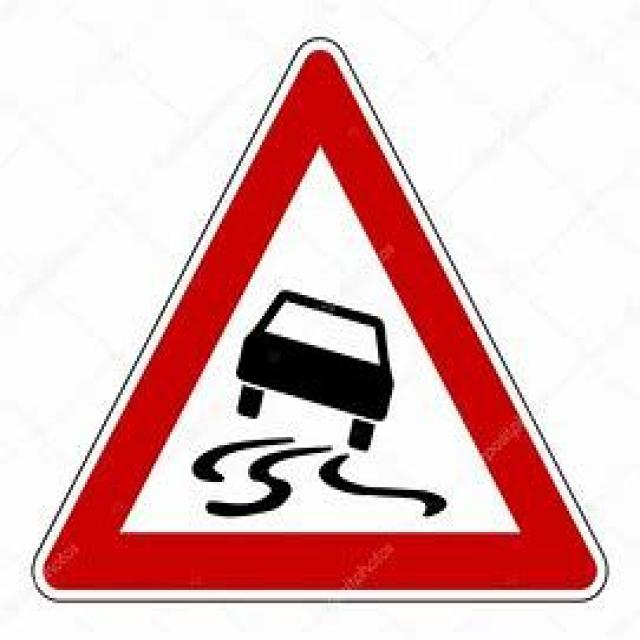children: (28, 32, 610, 600)
